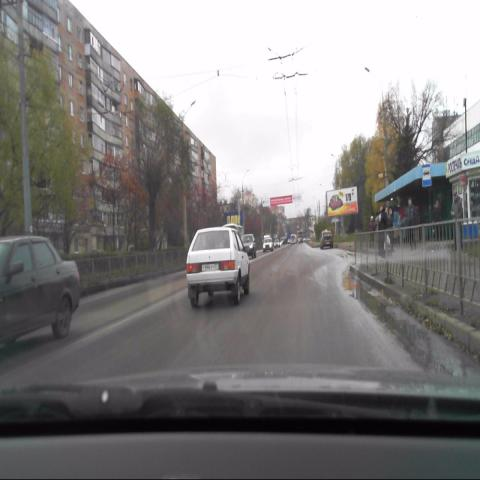5_16: (421, 163, 431, 186)
